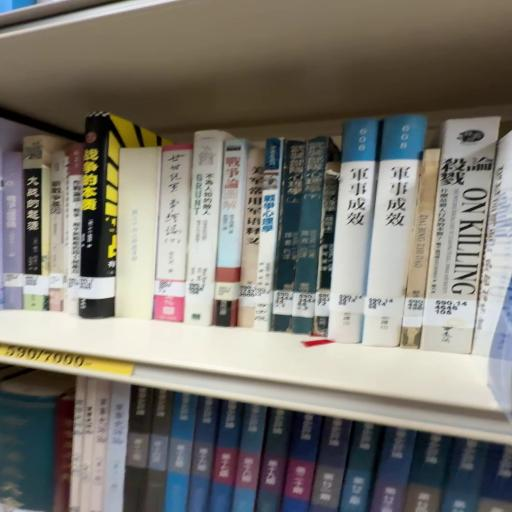backward: (115, 151, 161, 324)
book: (359, 118, 426, 352), (326, 120, 381, 349)
